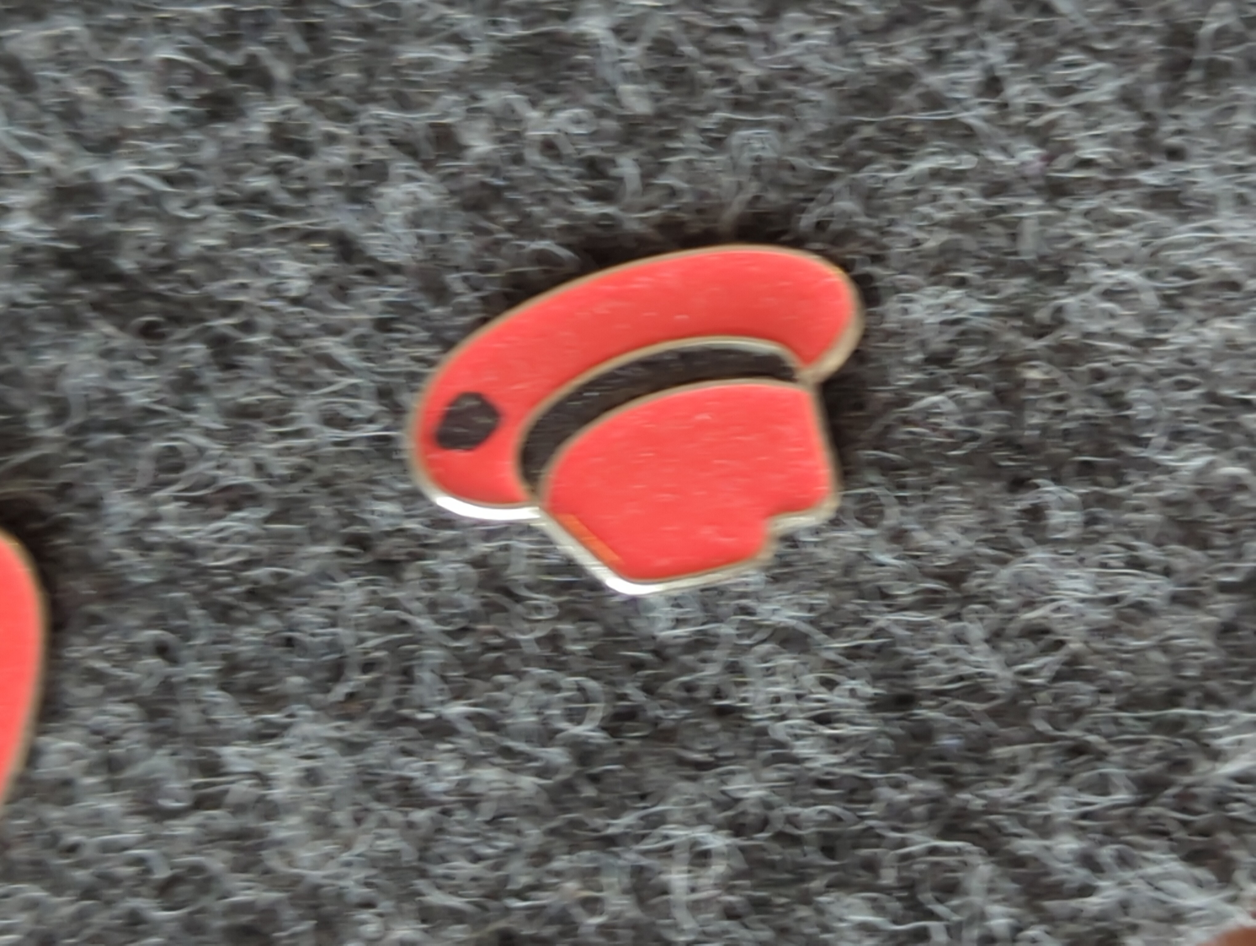Red-Hat: (269, 143, 1049, 659)
Scratch: (405, 351, 531, 470)
